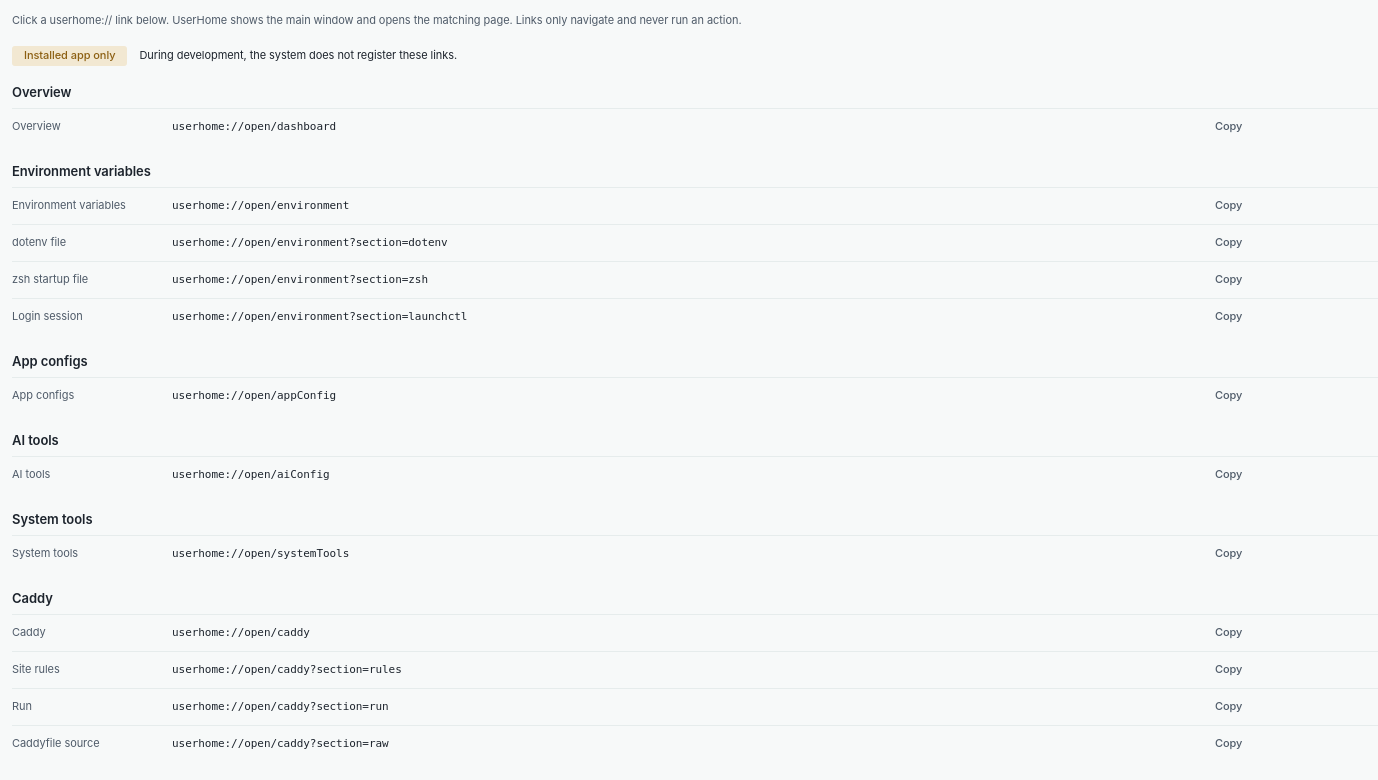
Test: DeepLinkSettings in English › explains a failed copy in English
This screenshot has width=1378, height=780.
Click the button "Copy" in the row of "zsh startup file".
click(1229, 280)  # box x1=1202 y1=268 x2=1255 y2=292
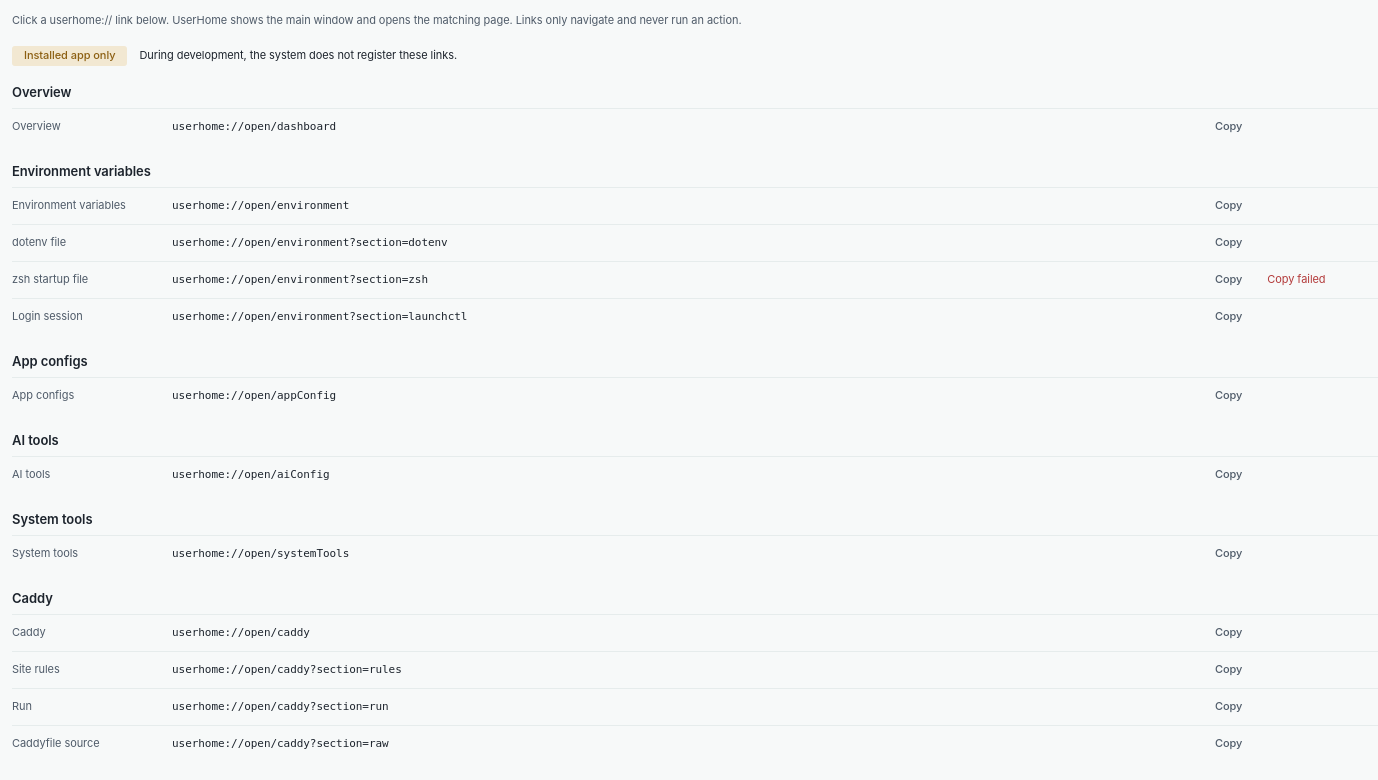
Check: the message reads "Copy failed", box x1=1267 y1=272 x2=1326 y2=286
